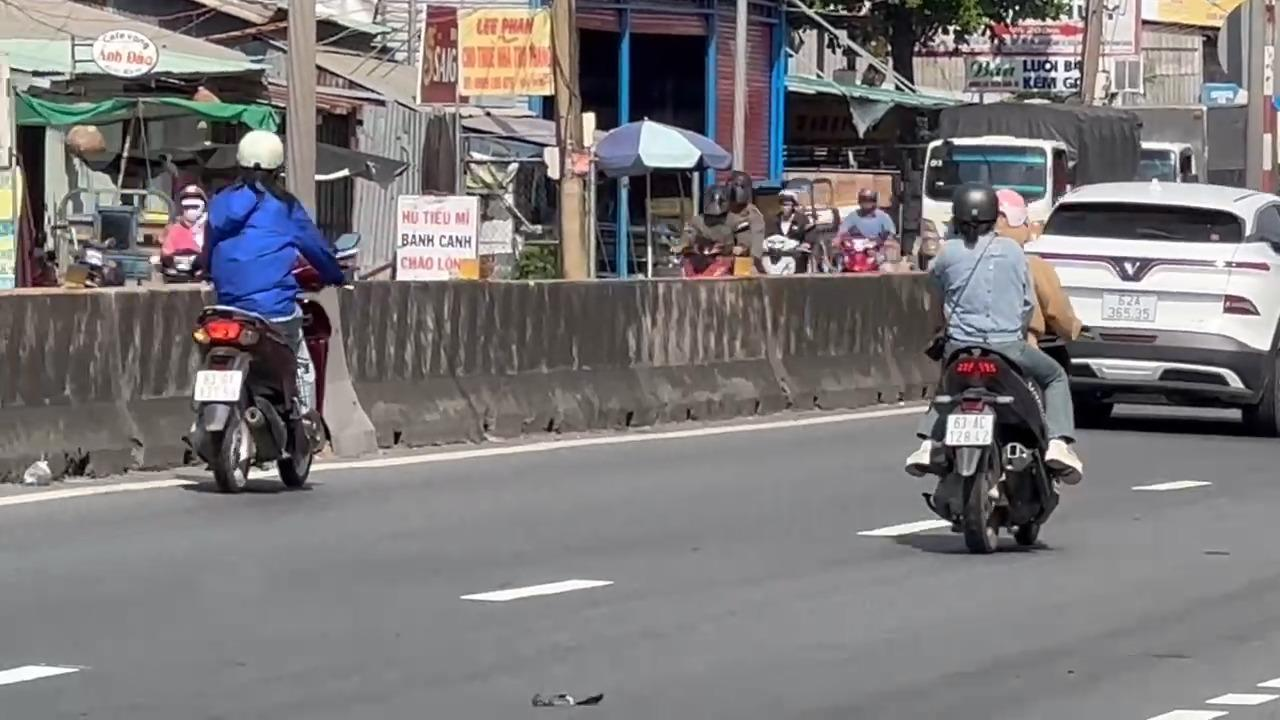bien_so: (191, 370, 245, 404), (1101, 290, 1158, 322), (943, 412, 994, 446)
